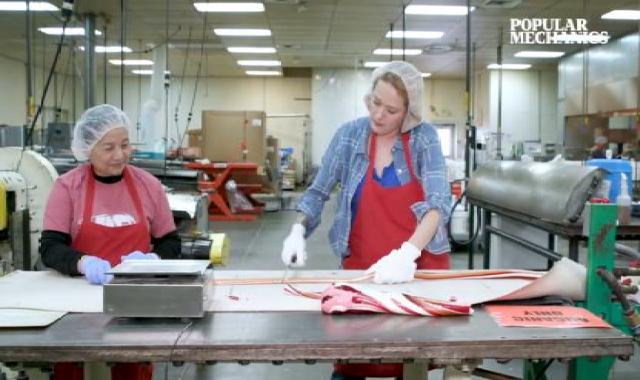hairnet: (365, 56, 433, 134), (65, 102, 138, 160)
